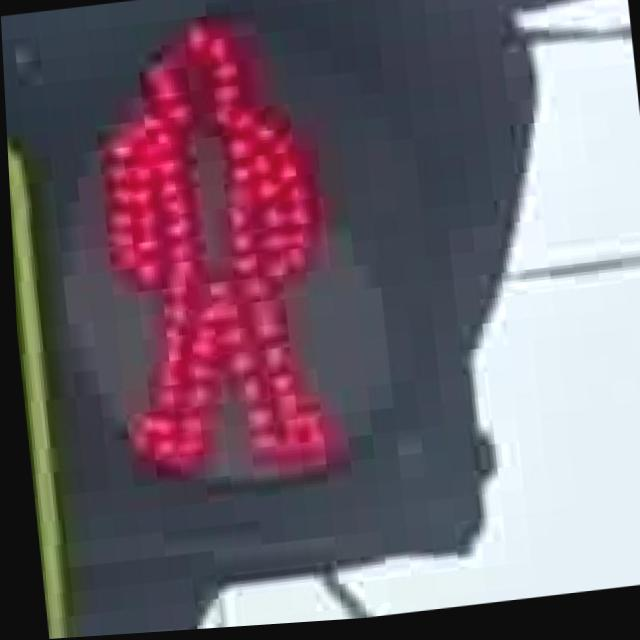red_light: (87, 0, 380, 495)
